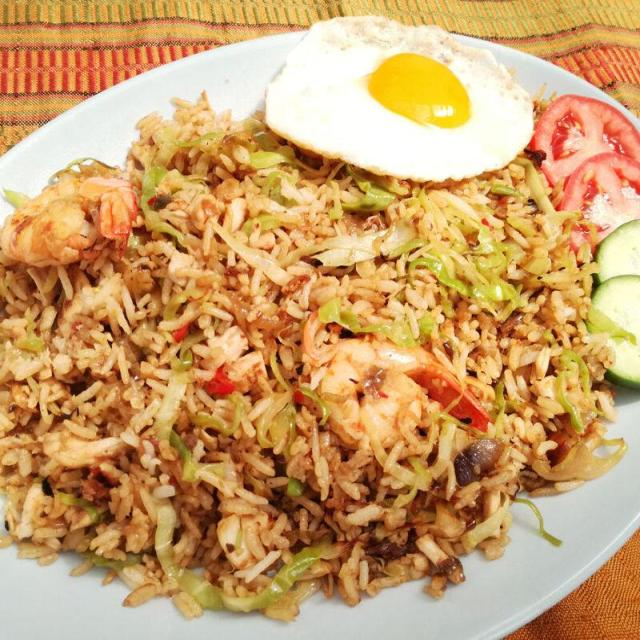Nasi Goreng: (2, 106, 558, 549)
